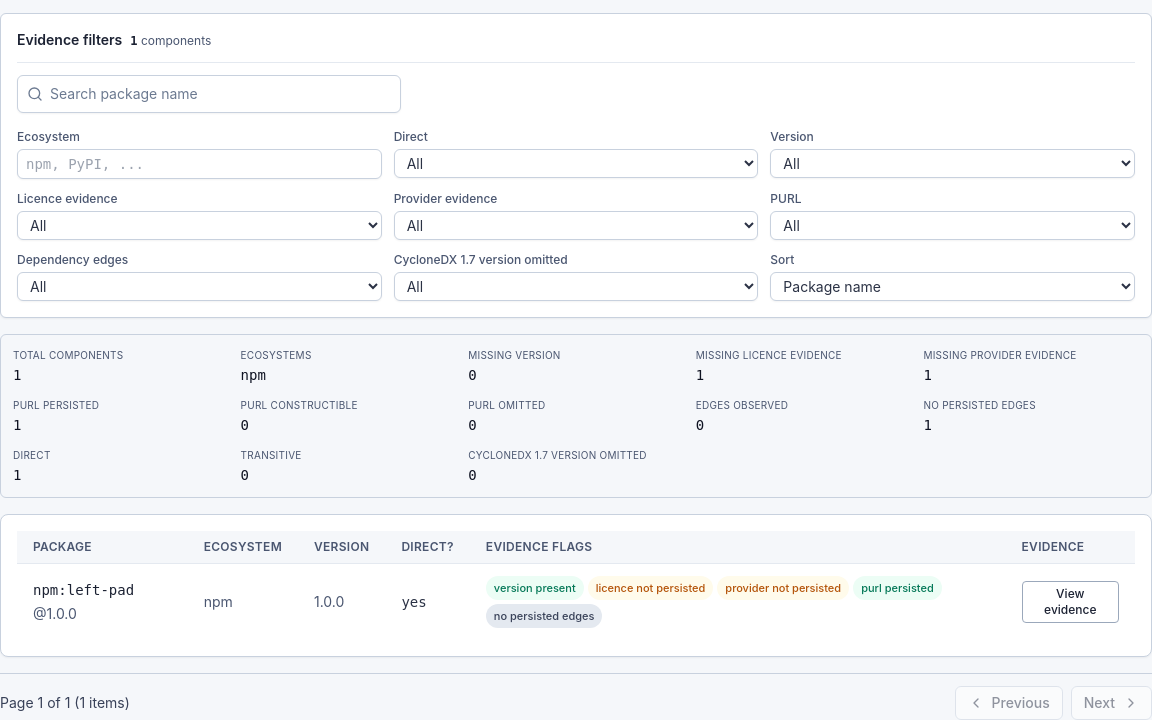
Test: v0.8 component evidence drilldown › renders the PURL truthfully when the persisted PURL is malformed
This screenshot has width=1152, height=720.
(page scrolled)
Click the button with test id "component-evidence-button-1". click: point(1070, 602)
box: [1022, 581, 1119, 623]
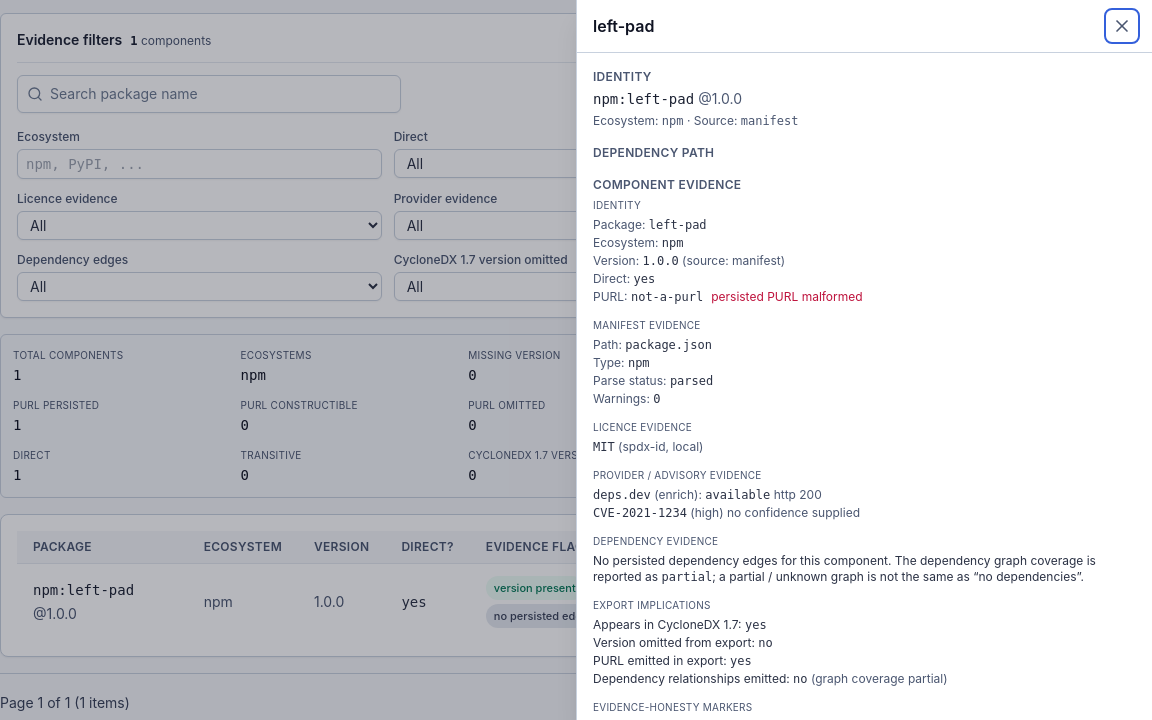
Now the text with test id "ce-purl" reads "not-a-purl", box [631, 290, 703, 304]
Now the text "persisted PURL malformed" is shown, box [711, 289, 863, 304]
